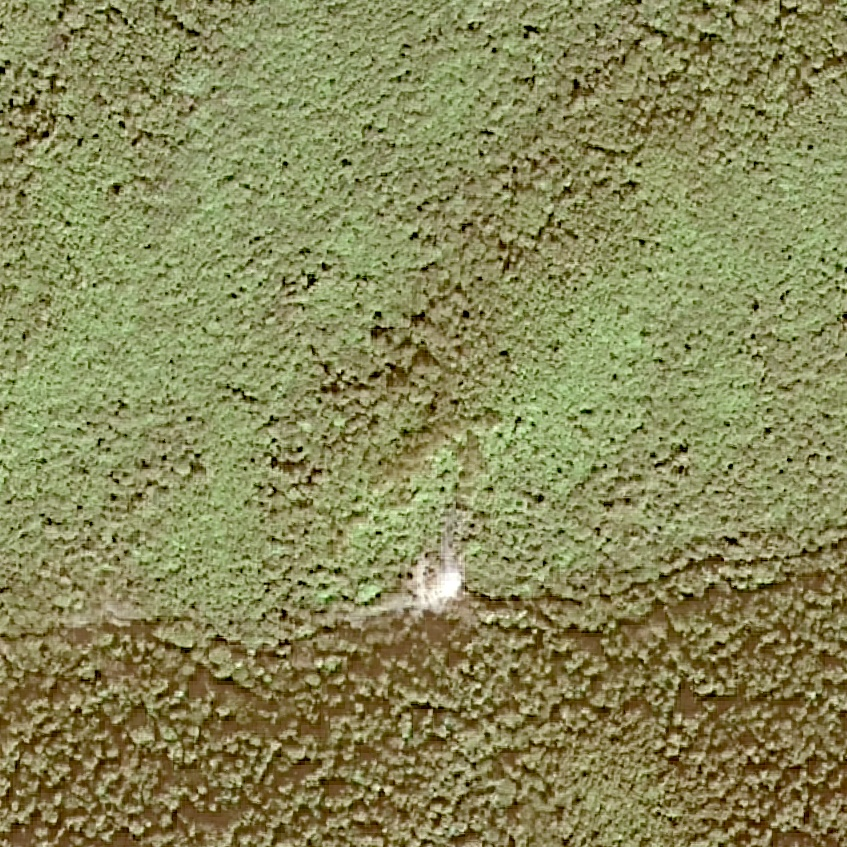slope: (401, 516, 474, 631)
